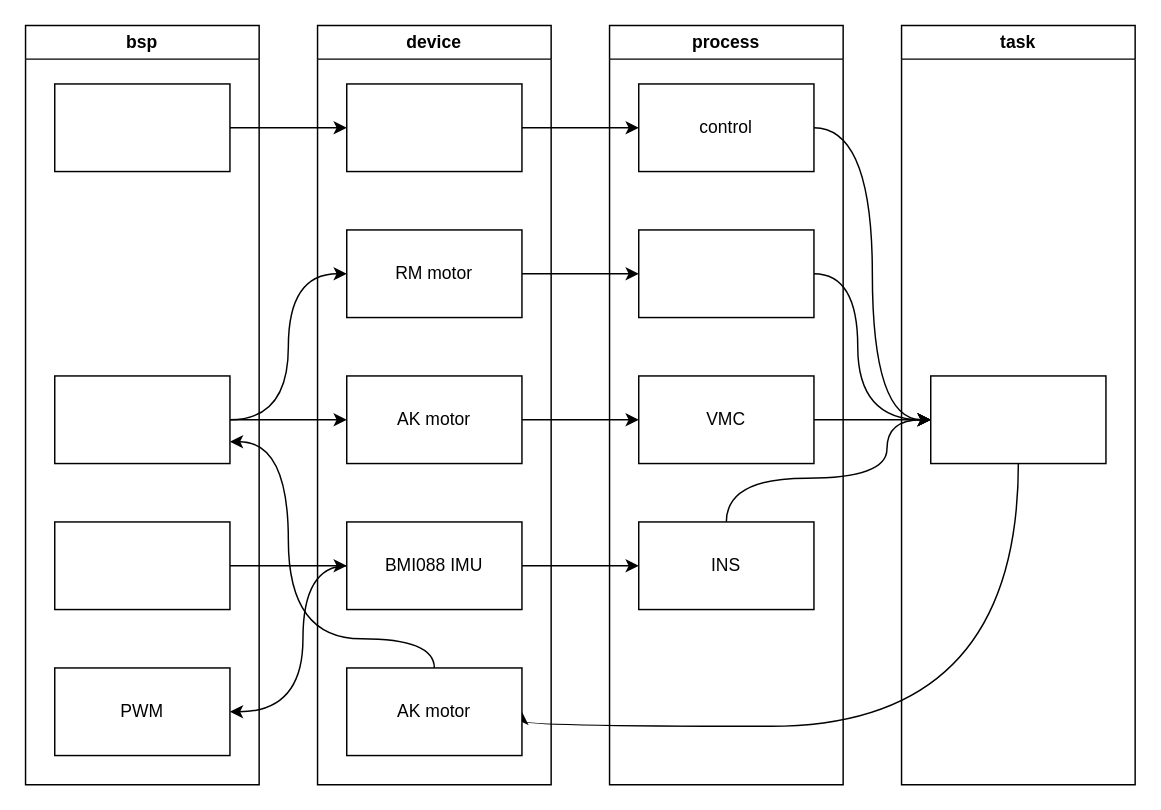
This 1161x810 diagram has some shape labels left out. Each missing label, with the centre of its shape:
"can" belongs at point 141,419.
"DT7 RC" belongs at point 433,127.
"i2c" belongs at point 141,565.
"LQR" belongs at point 1017,419.
"obverser" belongs at point 725,273.
"uart" belongs at point 141,127.
